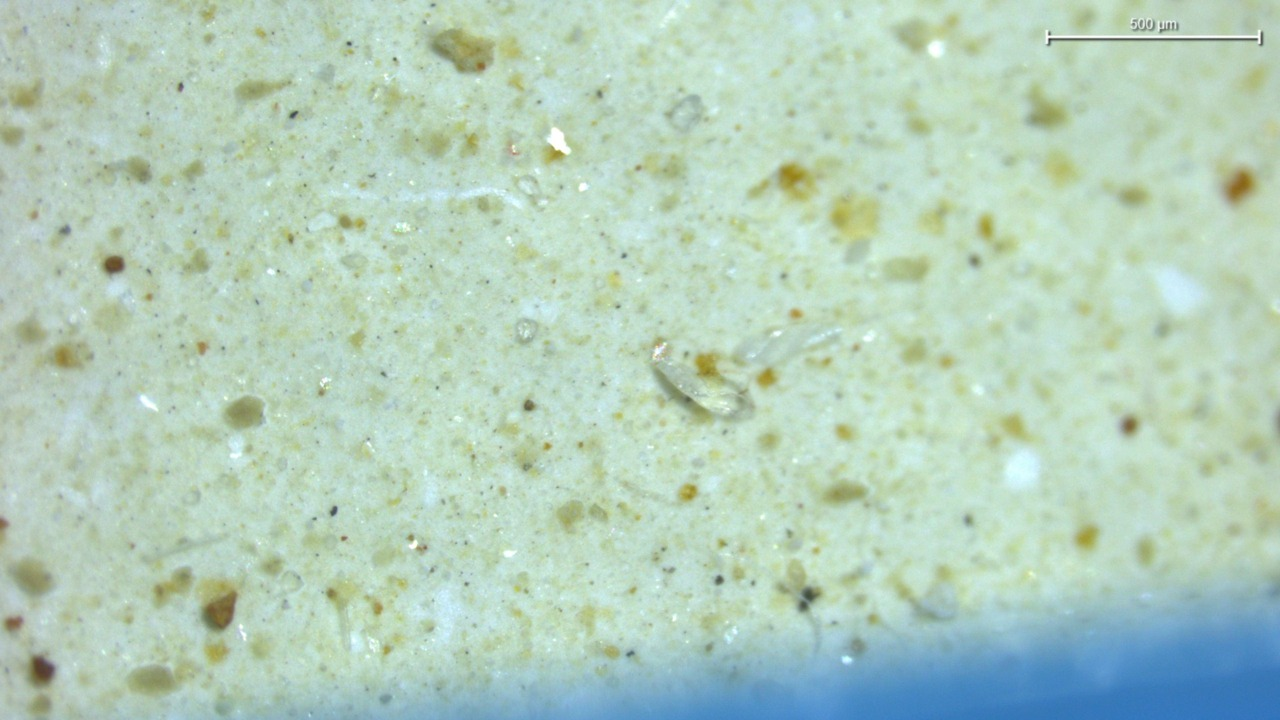microplastic_fragment: (651, 343, 744, 416)
